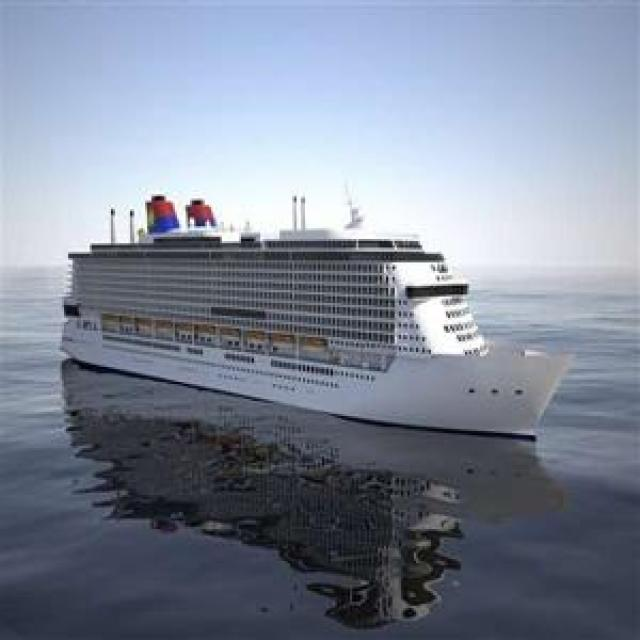passenger ship: (58, 193, 568, 440)
